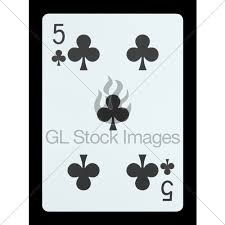five of clubs: (42, 13, 184, 212)
